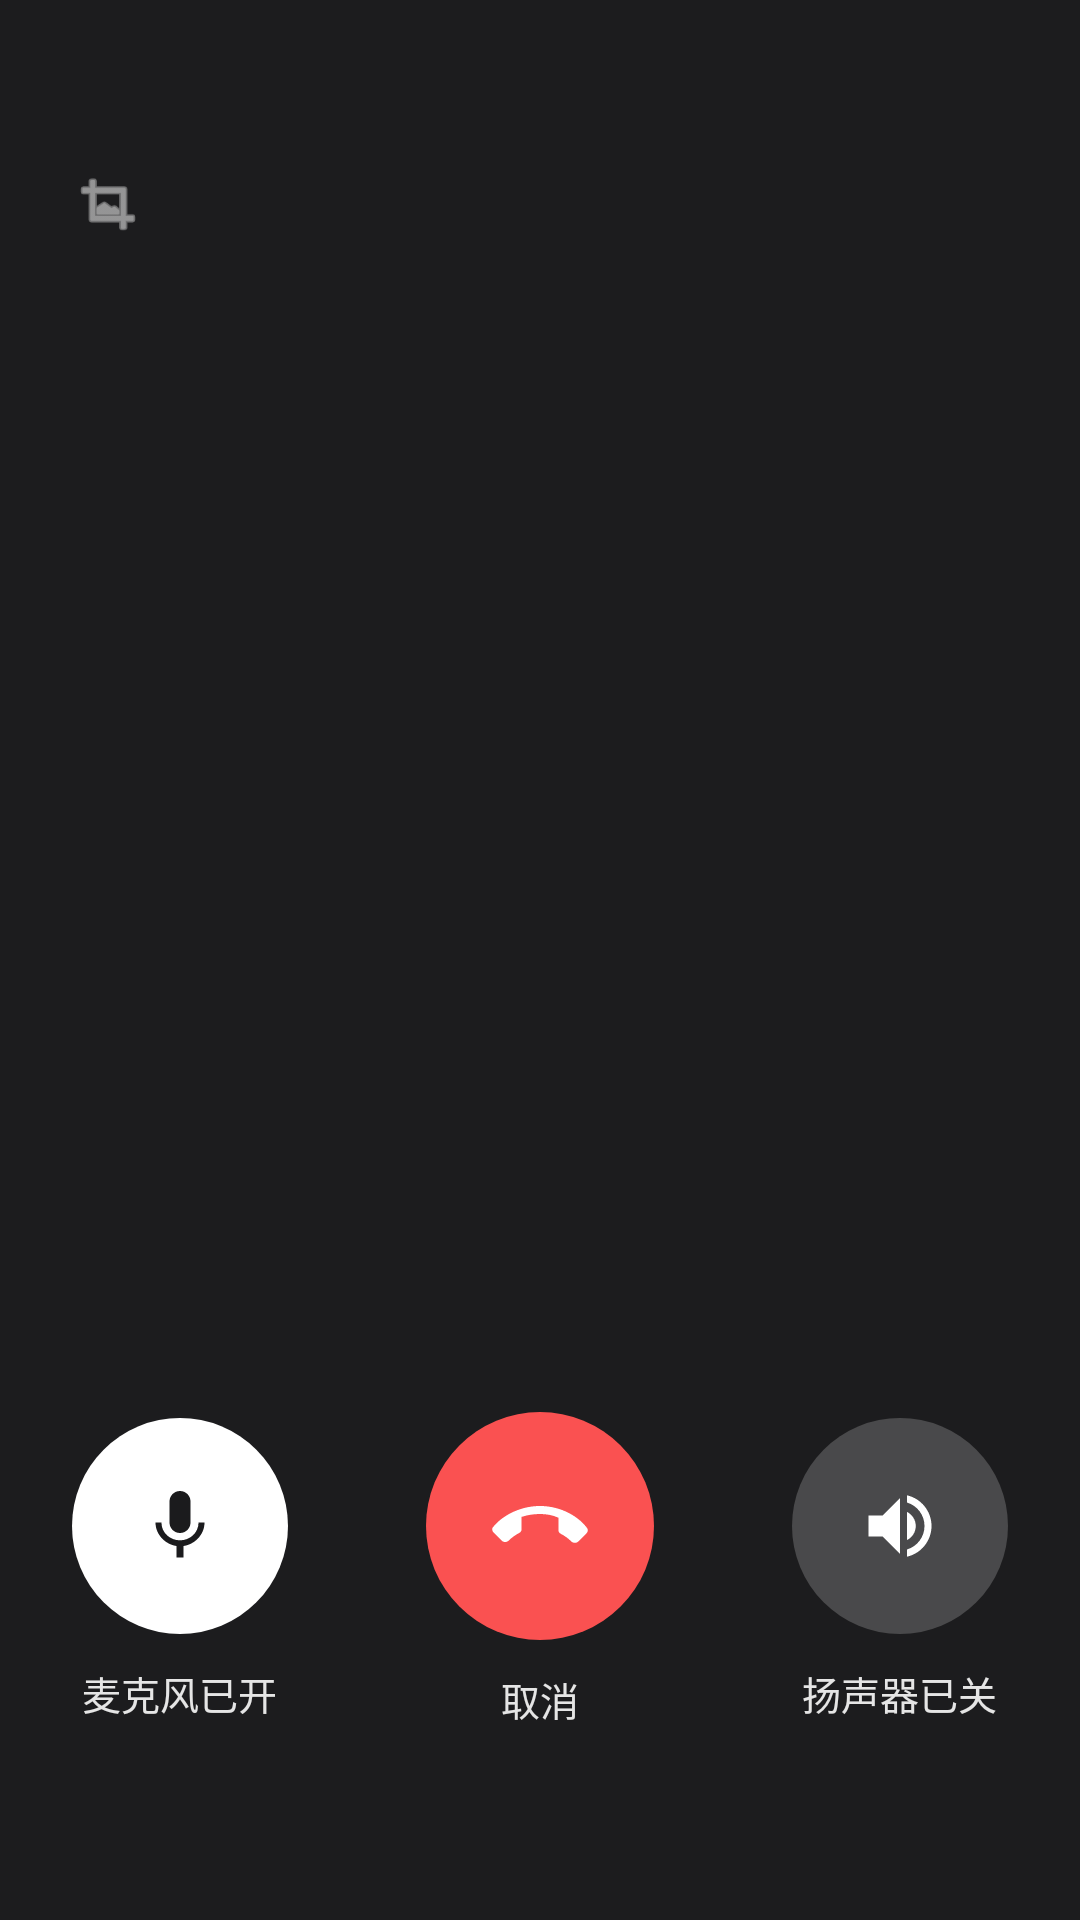

Where to tap for icons on this 1080 × 1920 app screen, as (x=x, y=y):
chat hangup: (x=540, y=1526)
crop: (x=108, y=204)
